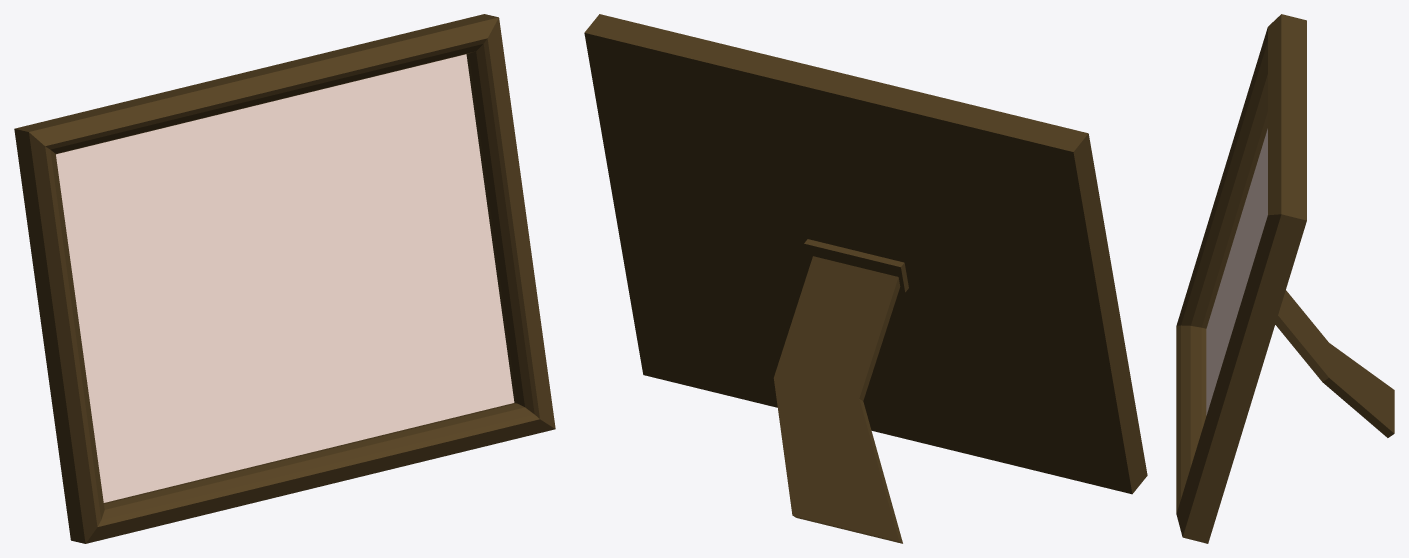
File: Prop_PictureFrame_01.fbx
3 views of the same model, side by side, from view 1: azimuth 30°, elevation 25°; view 2: azimuth 150°, elevation 25°; view 3: azimuth 270°, elevation 25° (orthographic). The views are drawn at different scales.
Parts seen in each view (by area): view 1: Prop_PictureFrame_01; view 2: Prop_PictureFrame_01; view 3: Prop_PictureFrame_01.
Boxes of the visible parts, x1,y1,x2,y2 form: Prop_PictureFrame_01: [14, 14, 555, 543]; Prop_PictureFrame_01: [584, 14, 1147, 543]; Prop_PictureFrame_01: [1176, 14, 1394, 543].
Bounding box in the file's own units: 27.44 × 21.12 × 12.63.
